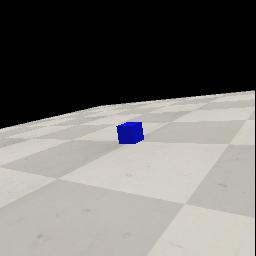box: (116, 122, 144, 144)
